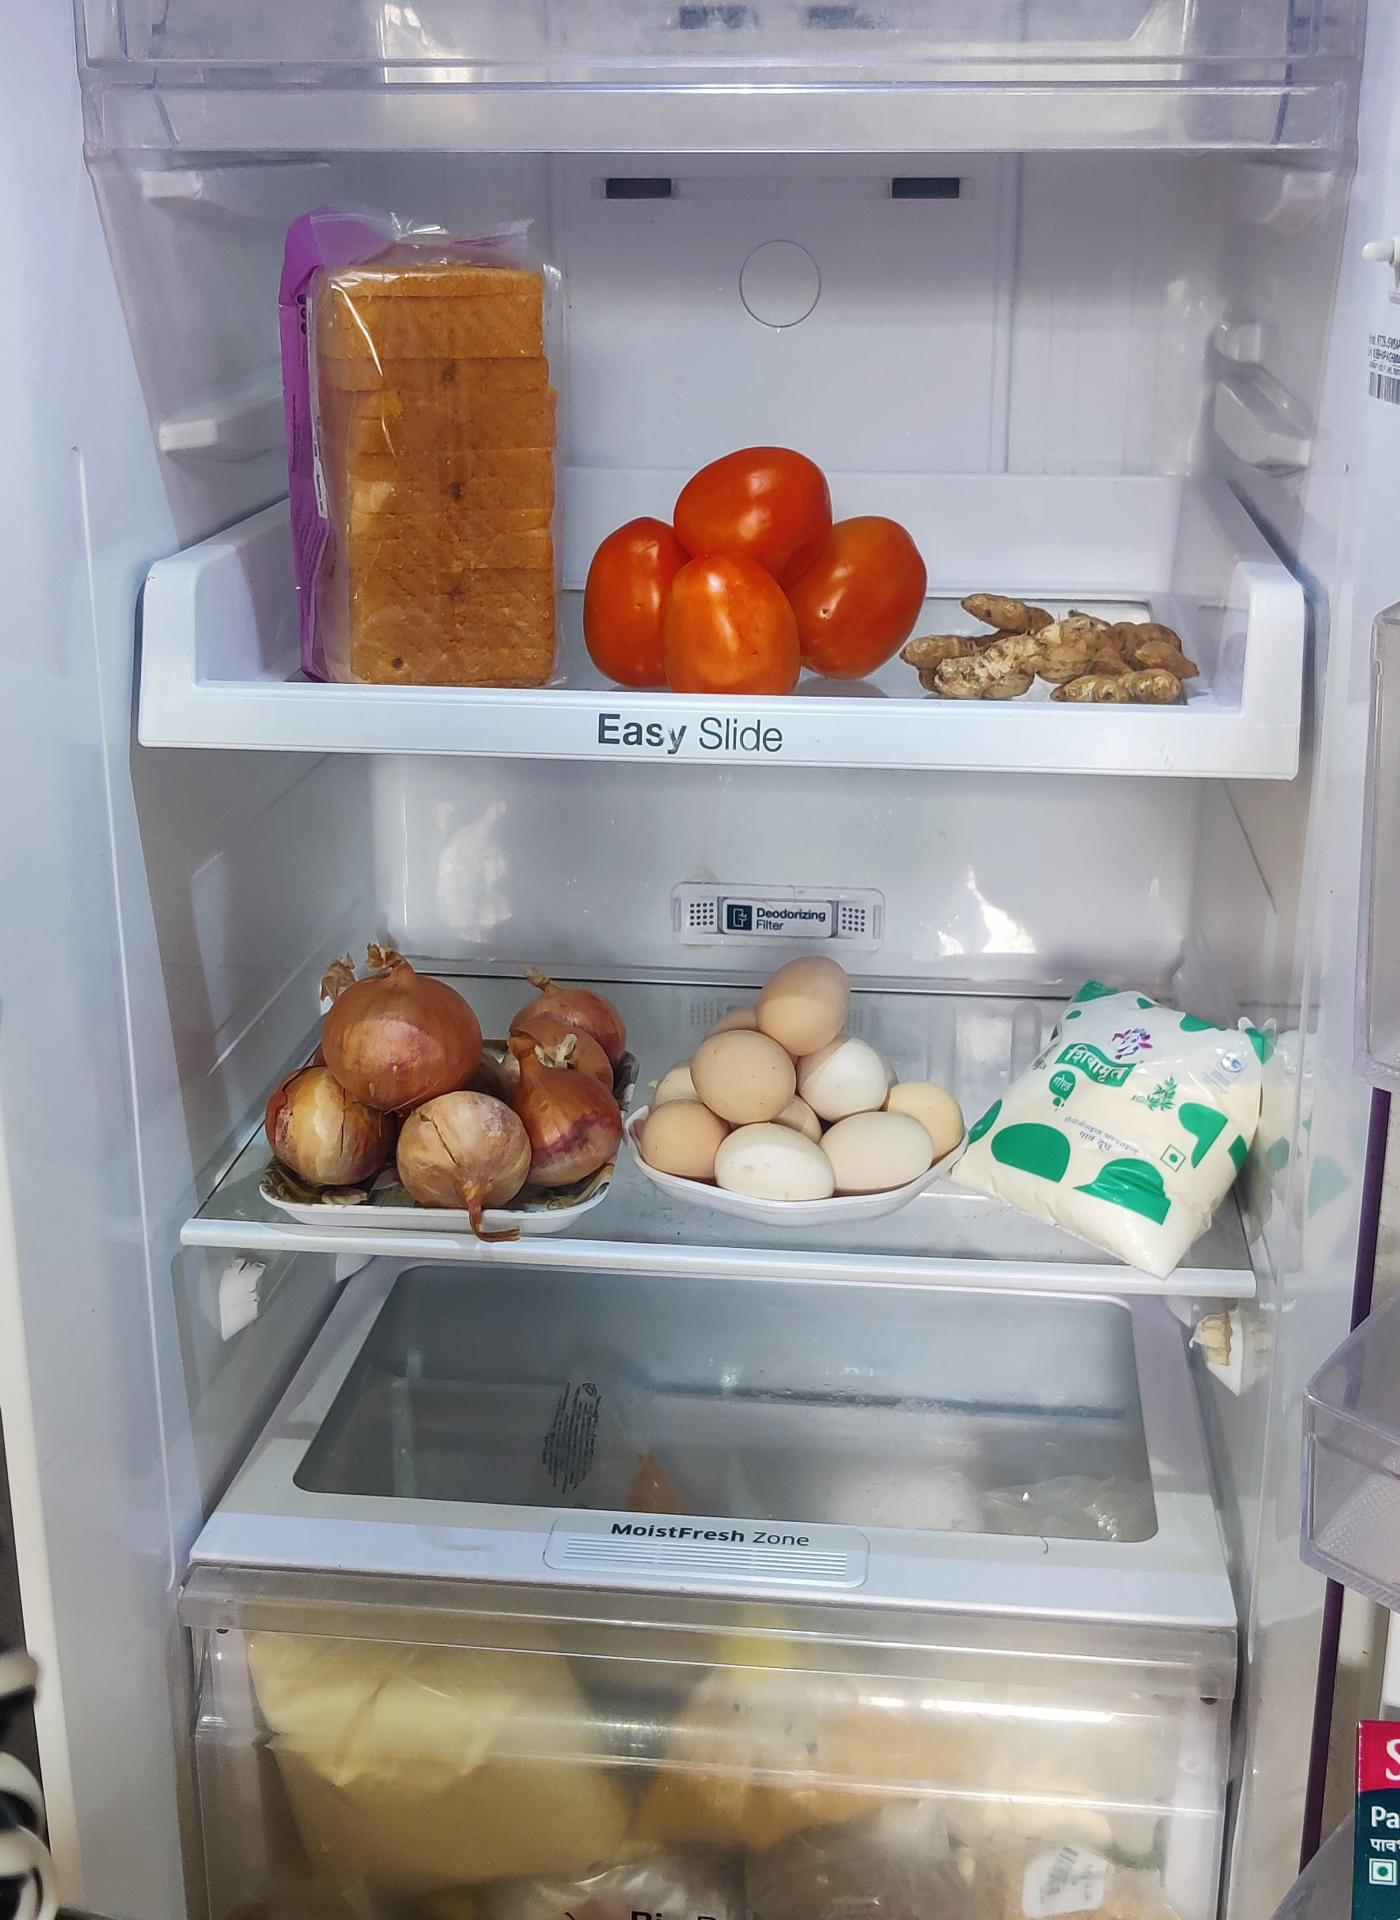bread: (279, 206, 574, 686)
egg: (637, 973, 956, 1221)
ginger: (904, 587, 1203, 707)
milk: (966, 978, 1276, 1267)
onion: (268, 939, 634, 1207)
tomato: (590, 450, 930, 704)
